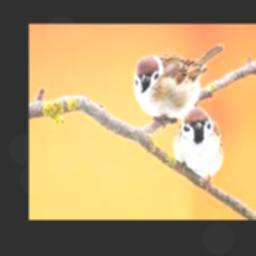Sparrow: (134, 44, 224, 129), (173, 107, 224, 193)
